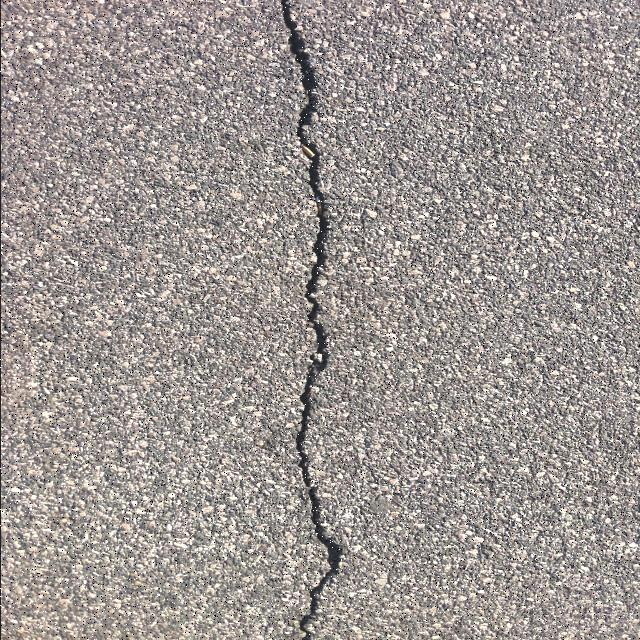Crack: (279, 0, 344, 640)
